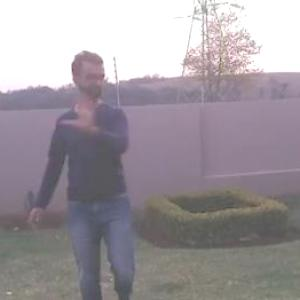follow_hand: (64, 89, 103, 134)
